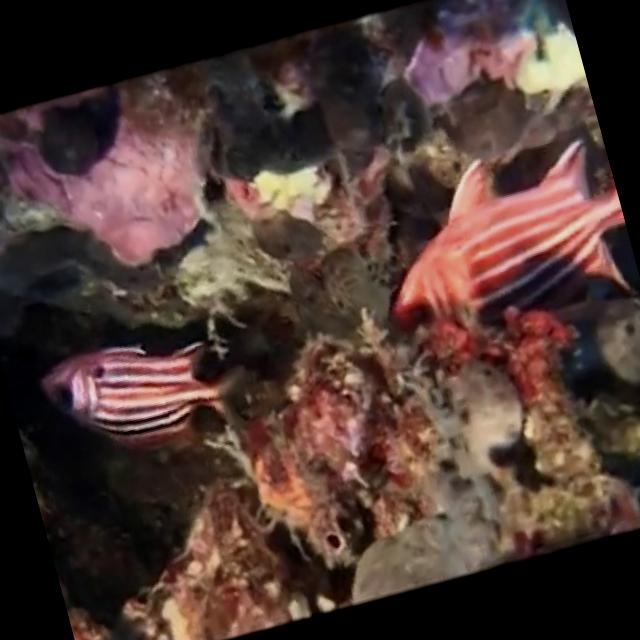Asker Baligi: (355, 126, 640, 358), (18, 284, 262, 489)
